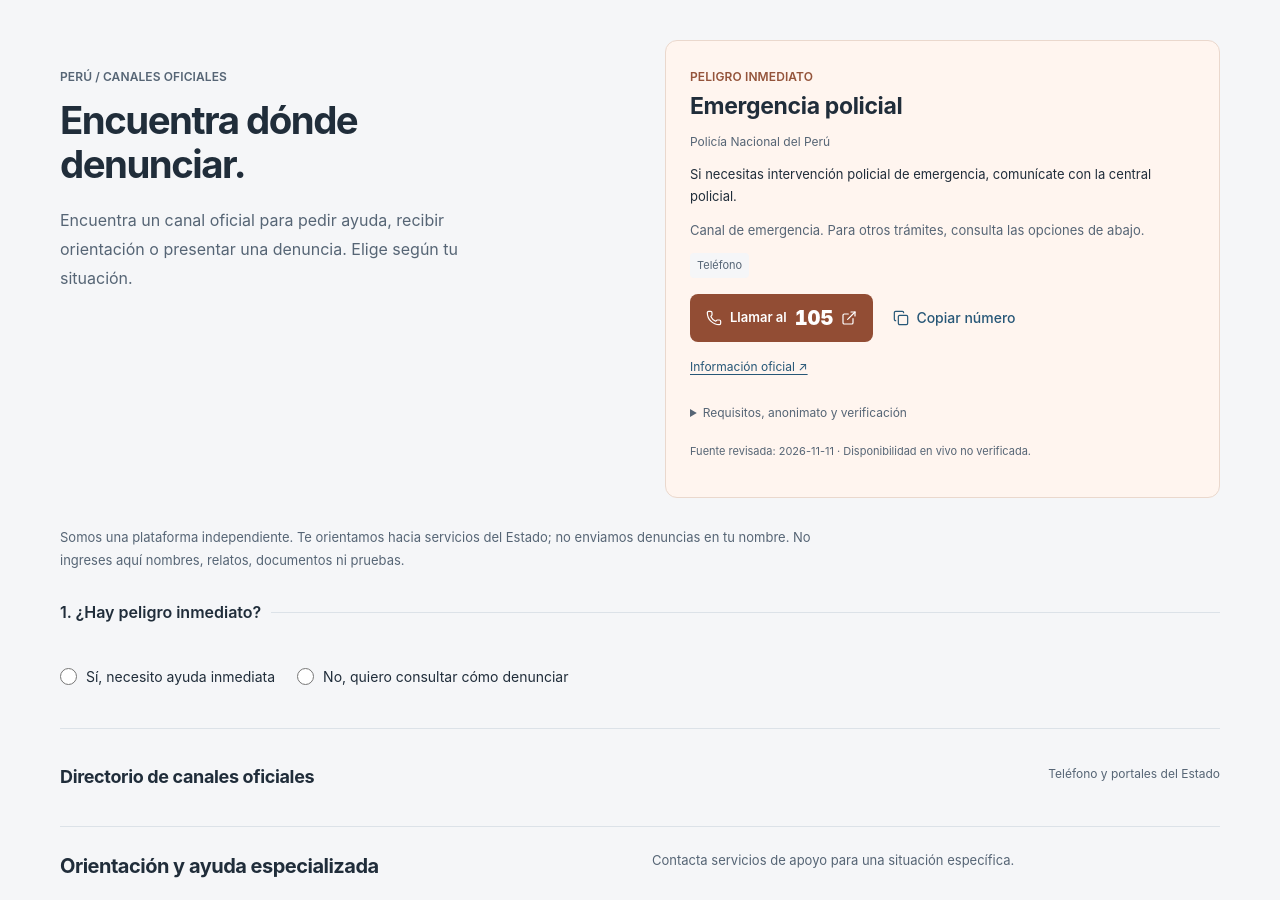
Test: official reporting resources › shows a focused selectable number when clipboard access is denied
This screenshot has width=1280, height=900.
Click the button with aria-label "Copiar número 105".
click(954, 318)  # box [881,300,1028,336]
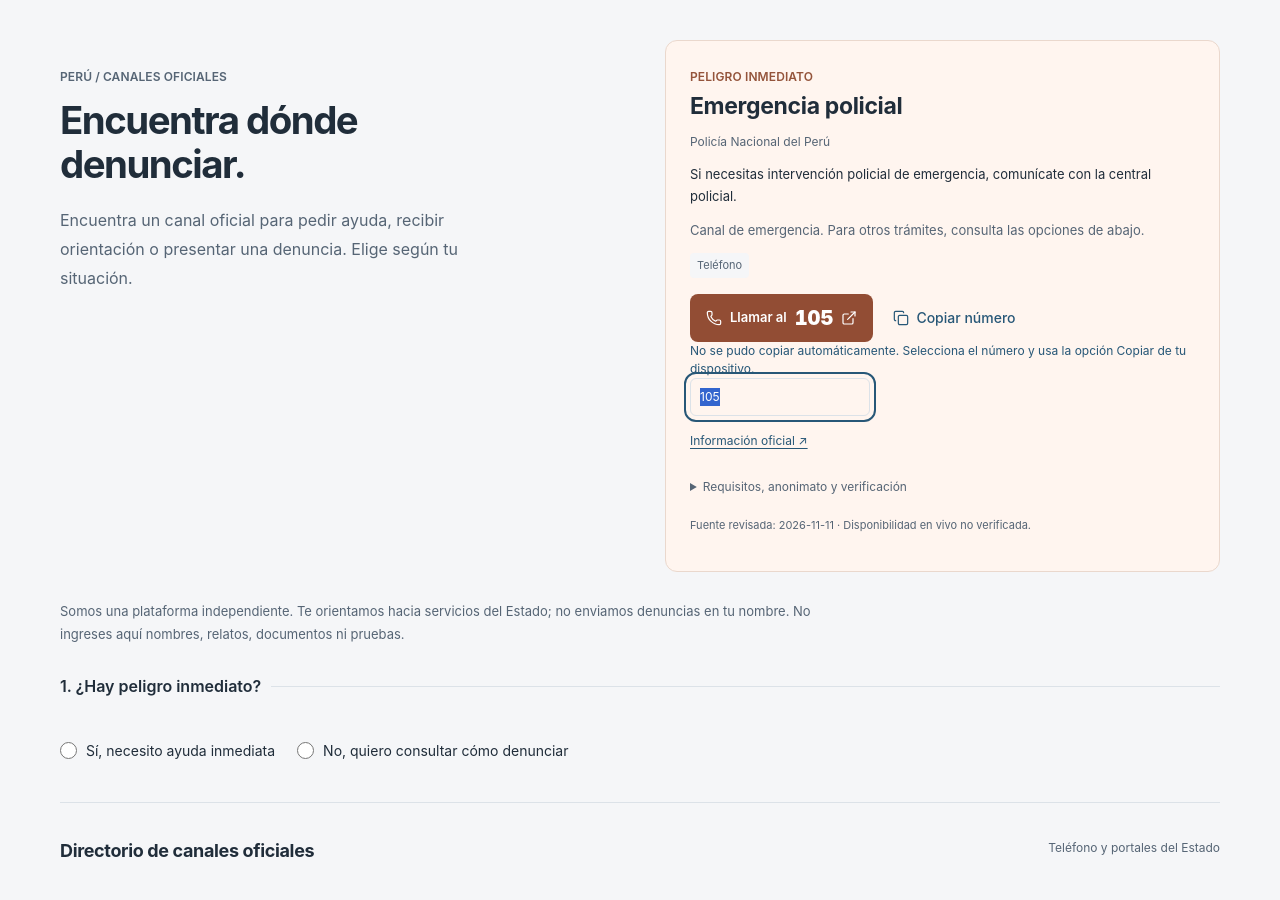
Expected: the field named "Número para copiar: 105" holds "105", [690,378,870,416]
Expected: the message shows "No se pudo copiar automáticamente", [690,343,1186,376]
